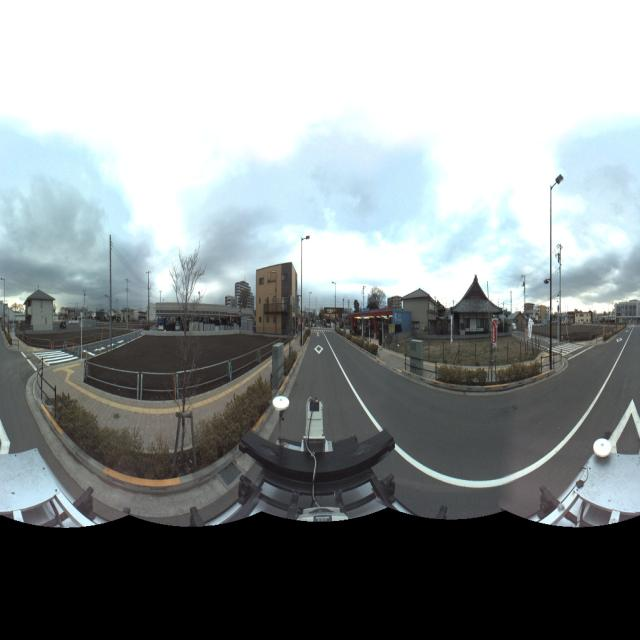b_1: (453, 262, 503, 352), (256, 255, 296, 332), (402, 288, 442, 351), (18, 288, 58, 350), (614, 291, 640, 333), (223, 281, 256, 312), (381, 288, 405, 322), (574, 302, 597, 334), (538, 296, 553, 334), (523, 297, 538, 330)
